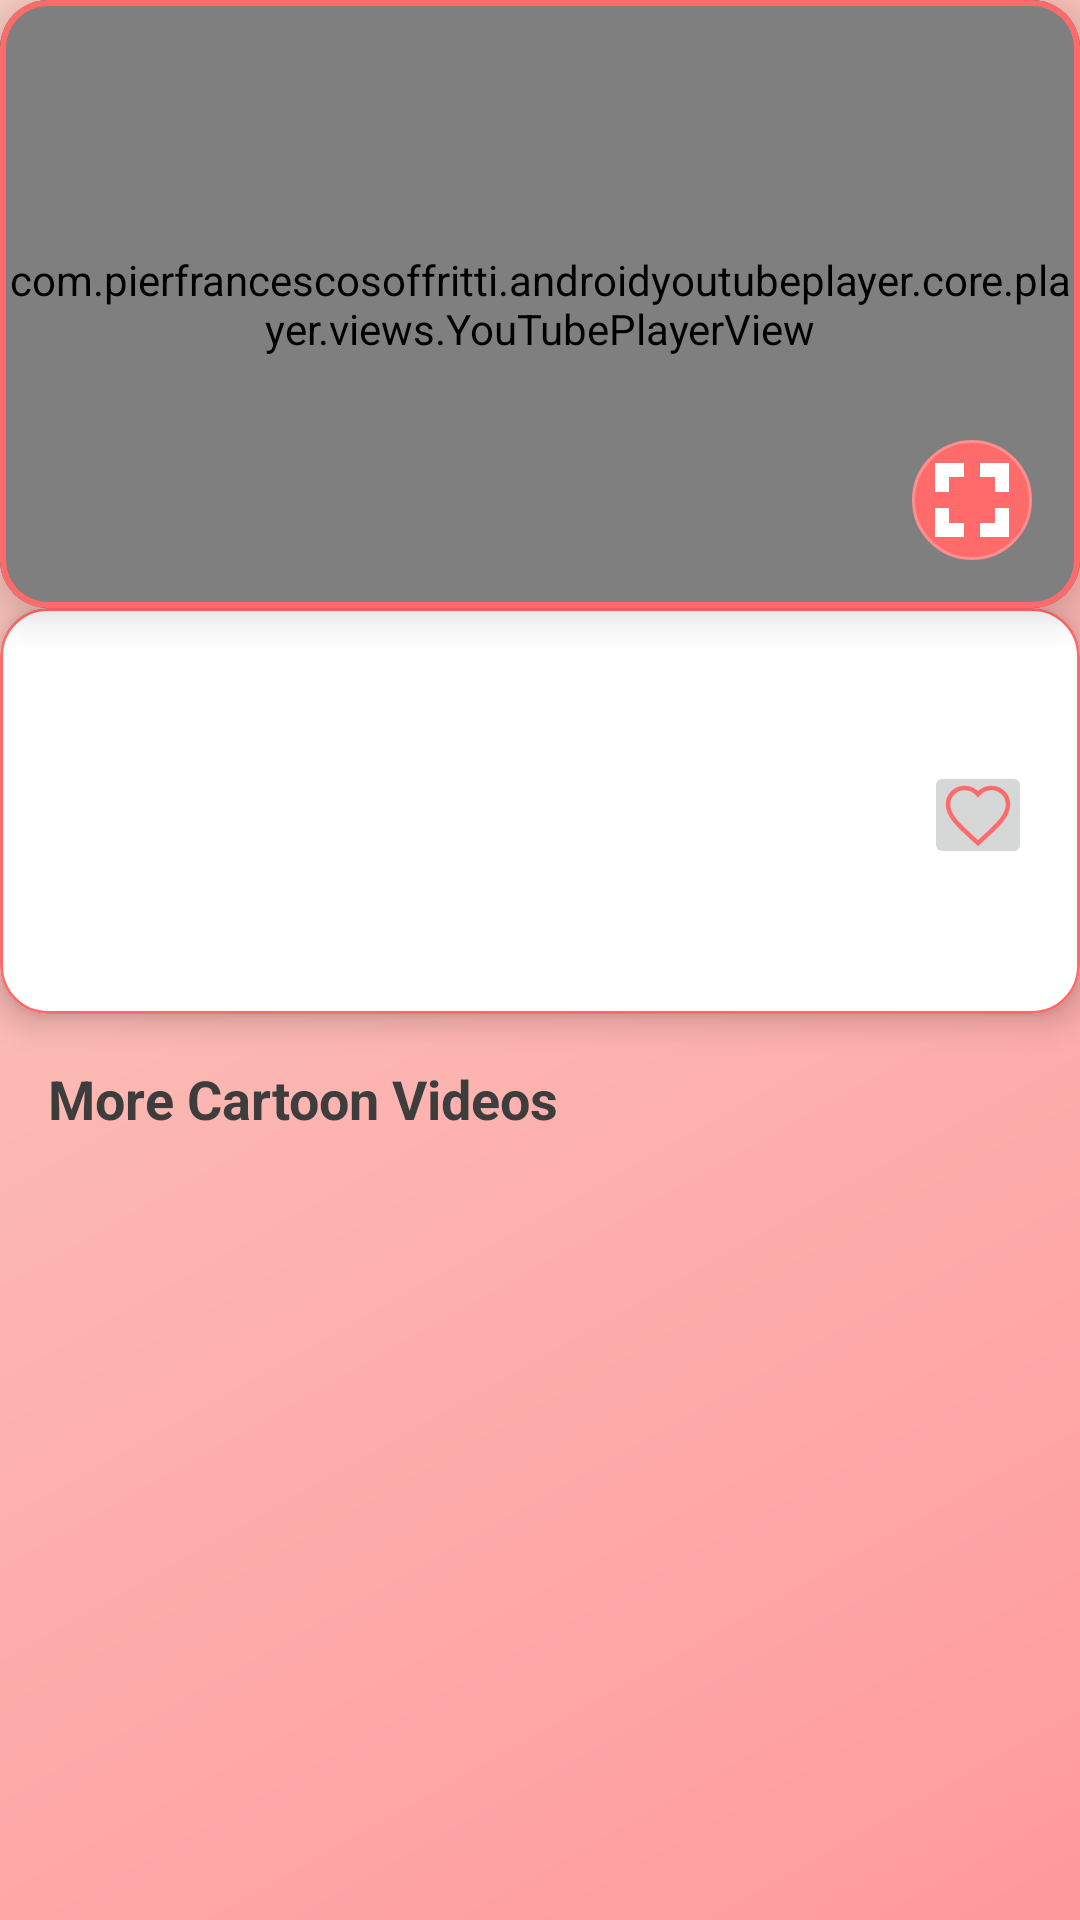

Screen size 1080 × 1920. Icon name, then its box in pixels as {"x1": x1, "y1": y1, "x2": x2, "y2": y2}:
Add to favorites: {"x1": 936, "y1": 779, "x2": 1020, "y2": 851}
Fullscreen: {"x1": 912, "y1": 440, "x2": 1032, "y2": 560}
